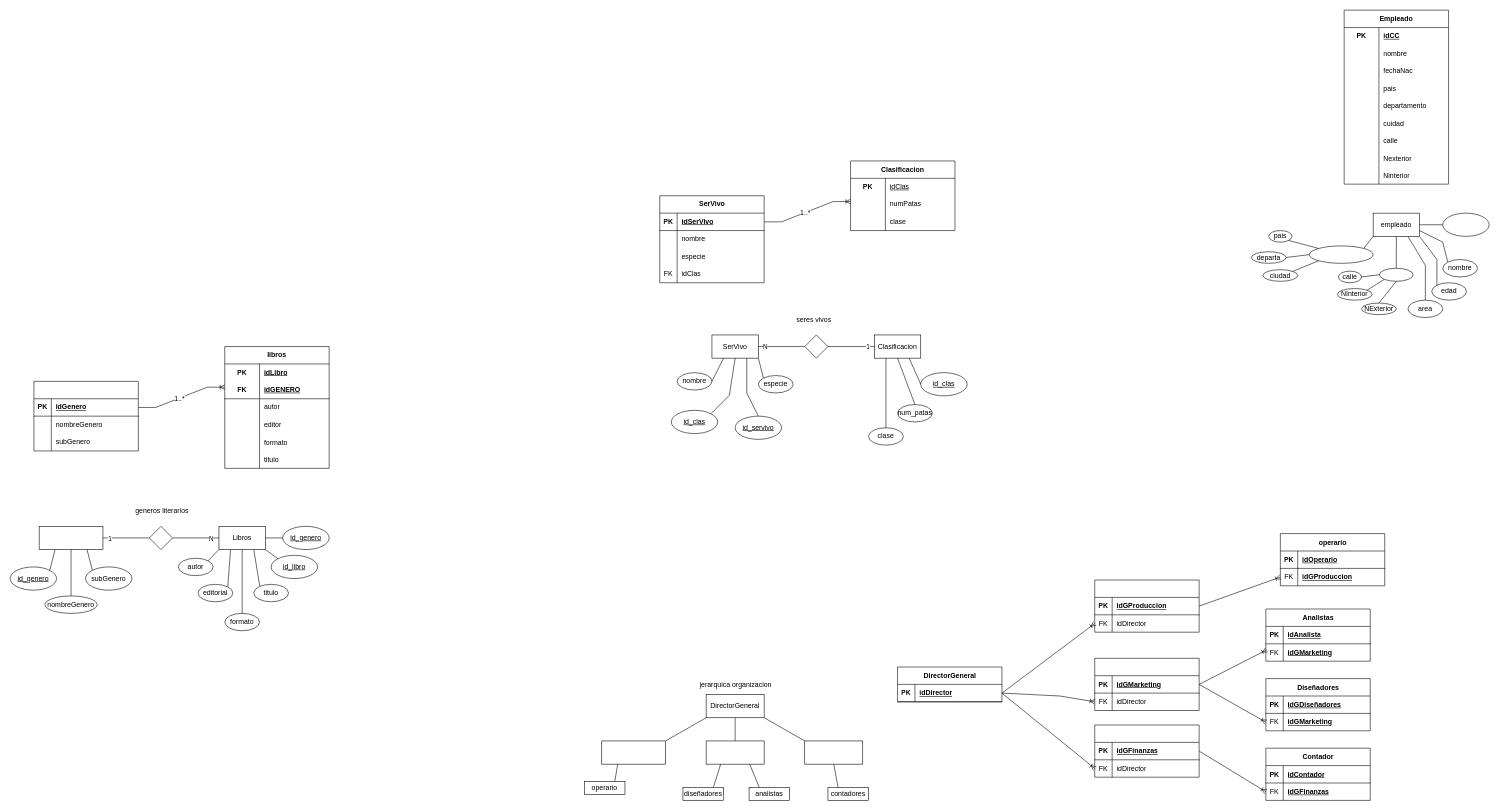
The diagram is 1499 pixels wide and 811 high, and some of its shapes have lost their labels. Here are the shapes that lost their labels. From the top down, the box of each, then its label:
(1442, 213, 1489, 236): CC
(1309, 245, 1373, 263): LugarNacimiento
(1379, 268, 1413, 281): direccion
(804, 334, 828, 358): su
(33, 381, 138, 451): GeneroLiterario
(39, 526, 103, 550): Genero Literario
(1094, 579, 1199, 632): GerenProduccion
(1094, 658, 1199, 710): GerenMarketing
(601, 740, 666, 764): gerenteProduccion
(706, 740, 764, 764): gerenteMarketing
(804, 740, 863, 764): gerenteFinanzas
(1094, 724, 1199, 777): GerenFinanzas
